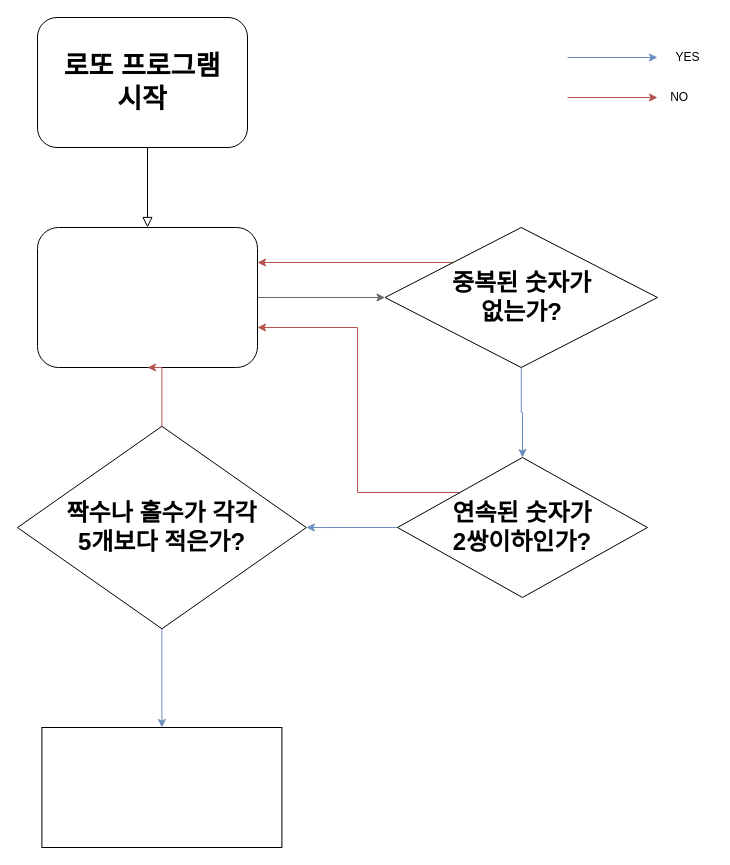
This 730x865 diagram has some shape labels left out. Here are the shapes that lost their labels. From the top down, the box of each, then its label:
(36, 226, 258, 368): 번호(7개) 추출 추첨번호 6개& 보너스 번호 1개
(41, 726, 282, 848): 게임출력!
